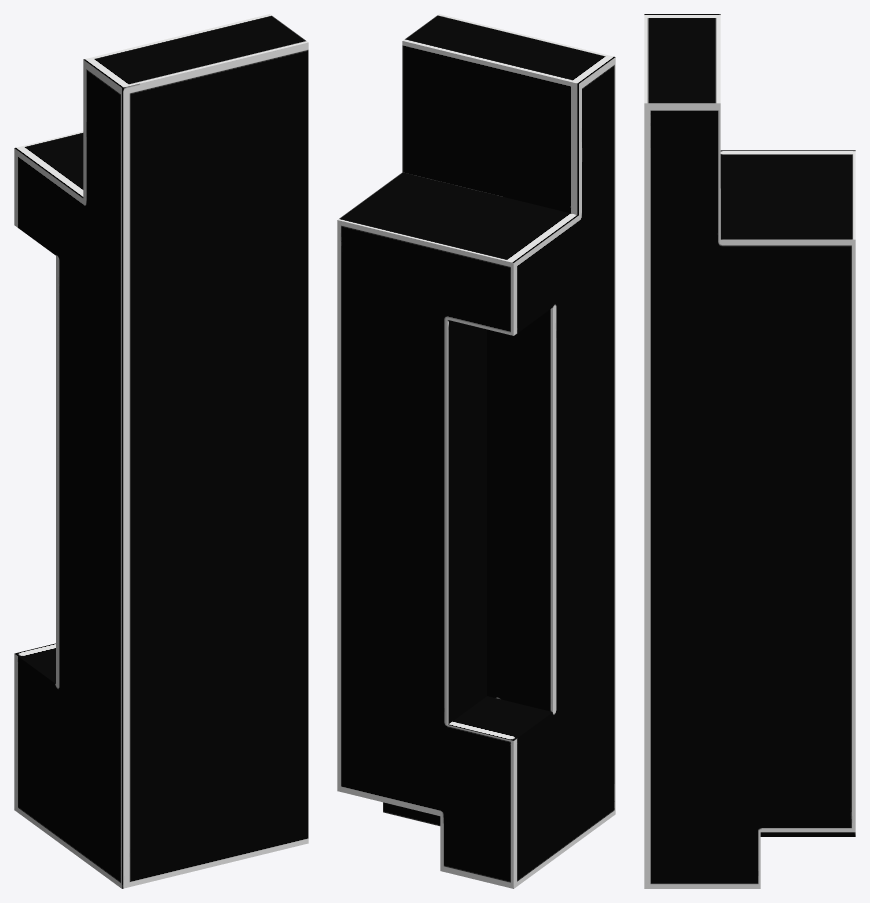
Rendered from Obstacle7.fbx.
3 views of the same model, side by side, from view 1: azimuth 30°, elevation 25°; view 2: azimuth 150°, elevation 25°; view 3: azimuth 270°, elevation 25° (orthographic). The views are drawn at different scales.
Parts seen in each view (by area): view 1: Object37; view 2: Object37; view 3: Object37.
Boxes of the visible parts, left/top/right/bottom form: Object37: left=14, top=14, right=308, bottom=888; Object37: left=337, top=14, right=615, bottom=888; Object37: left=644, top=14, right=855, bottom=888.
Bounding box in the file's own units: 4 × 16.41 × 4.
1 material, 1 textured.
